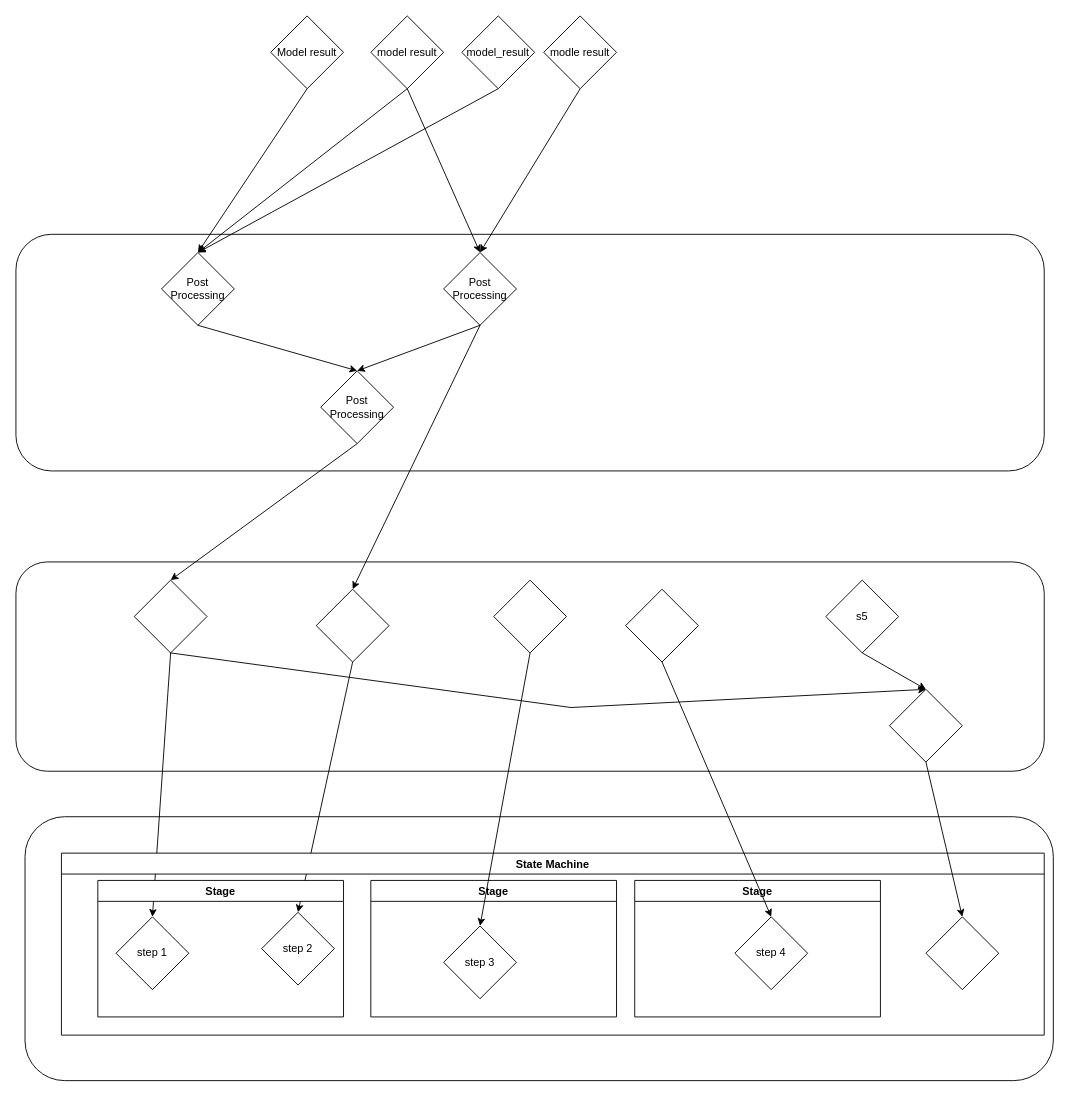
Image size: 1069x1097. Some labels were removed from this diagram. The shapes that lost their labels are listed below. From the top down, each one's centre as x and y in pixels, then its label:
point (170, 616): s1
point (352, 625): s2
point (529, 616): s3
point (661, 625): s4
point (925, 725): s6
point (962, 953): early stop
